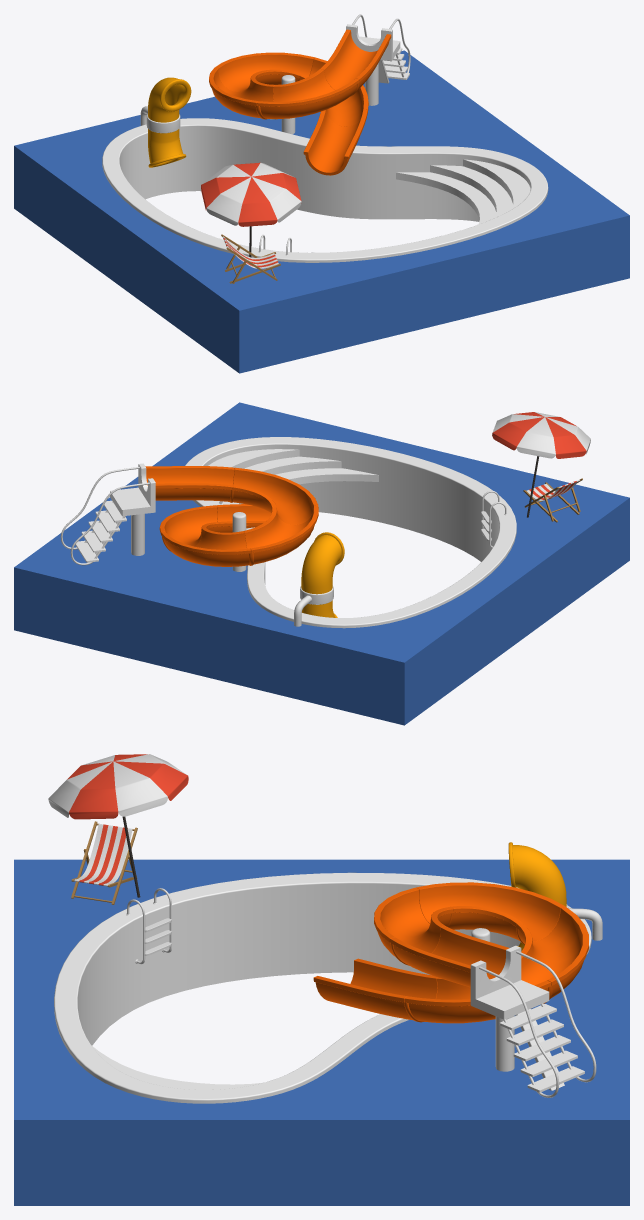
File: PoolScene.fbx
The picture shows the model from 3 angles, top to bottom: view 1: azimuth 30°, elevation 25°; view 2: azimuth 150°, elevation 25°; view 3: azimuth 270°, elevation 25°; orthographic projection. The views are drawn at different scales.
Visible parts, largest first — view 1: Floor, PoolBorder, Slide, Umbrella, PoolStairs, ForceTube, SlidePlatform, BeachChair; view 2: Floor, PoolBorder, Slide, SlidePlatform, Umbrella, PoolStairs, ForceTube, BeachChair; view 3: Floor, PoolBorder, Slide, SlidePlatform, Umbrella, BeachChair, ForceTube, PoolStairs, Ladder.
Boxes of the visible parts, left/top/right/bottom form: Floor: left=14, top=50, right=629, bottom=373; PoolBorder: left=102, top=118, right=548, bottom=262; Slide: left=209, top=29, right=391, bottom=175; Umbrella: left=201, top=162, right=301, bottom=257; PoolStairs: left=396, top=159, right=530, bottom=224; ForceTube: left=140, top=77, right=191, bottom=167; SlidePlatform: left=346, top=14, right=410, bottom=105; BeachChair: left=221, top=234, right=280, bottom=283; Floor: left=14, top=402, right=629, bottom=725; PoolBorder: left=185, top=437, right=516, bottom=628; Slide: left=145, top=466, right=318, bottom=566; SlidePlatform: left=60, top=463, right=155, bottom=565; Umbrella: left=492, top=412, right=590, bottom=517; PoolStairs: left=208, top=449, right=378, bottom=504; ForceTube: left=294, top=532, right=344, bottom=626; BeachChair: left=523, top=478, right=582, bottom=522; Floor: left=14, top=859, right=629, bottom=1205; PoolBorder: left=54, top=872, right=591, bottom=1103; Slide: left=313, top=882, right=588, bottom=1023; SlidePlatform: left=470, top=945, right=596, bottom=1097; Umbrella: left=48, top=754, right=188, bottom=897; BeachChair: left=71, top=821, right=137, bottom=904; ForceTube: left=508, top=842, right=602, bottom=950; PoolStairs: left=91, top=1045, right=262, bottom=1089; Ladder: left=126, top=888, right=171, bottom=964.
Bounding box in the file's own units: 1300 × 504 × 1300.
